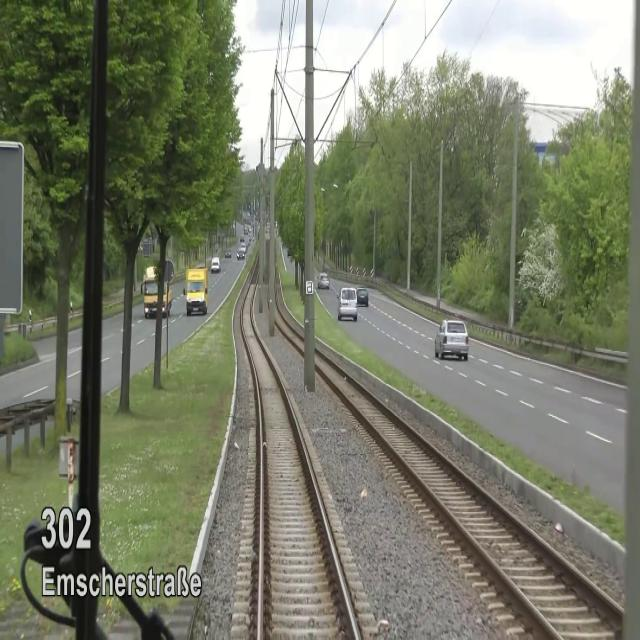rail-track: (315, 349, 640, 639), (242, 256, 354, 639), (275, 296, 301, 347)
